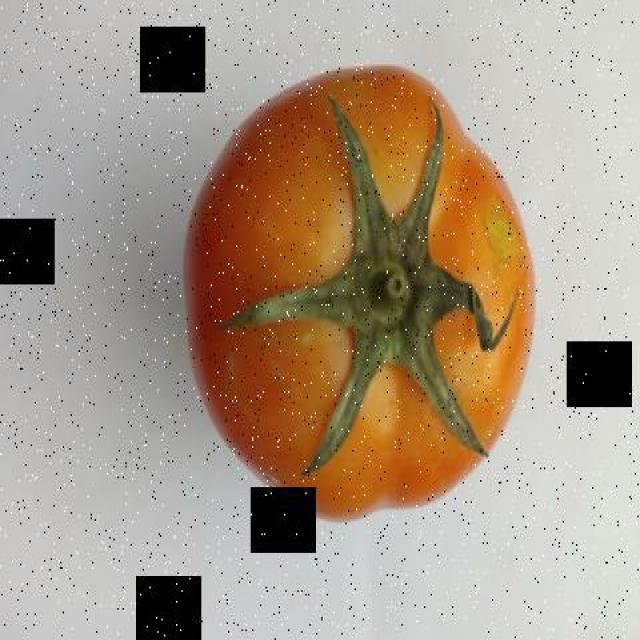tomato: (183, 64, 535, 521)
